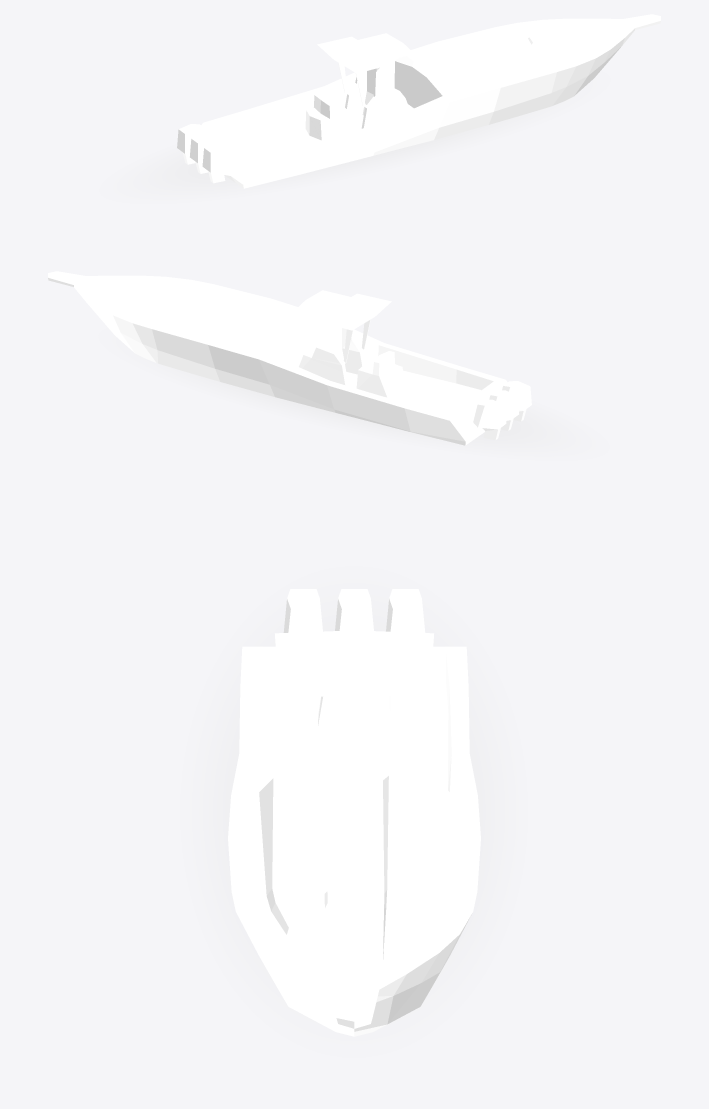
Rendered from AIS-BOAT_CenterConsole_B_001.glb.
3 views of the same model, one above another, from view 1: azimuth 30°, elevation 25°; view 2: azimuth 150°, elevation 25°; view 3: azimuth 270°, elevation 25° (orthographic). The views are drawn at different scales.
Visible parts, largest first — view 1: AIS_CenterConsole-B.002, SurfaceGraphic_whiteGlow.002; view 2: AIS_CenterConsole-B.002, SurfaceGraphic_whiteGlow.002; view 3: AIS_CenterConsole-B.002, SurfaceGraphic_whiteGlow.002.
Part boxes in pixels (x1=…): AIS_CenterConsole-B.002: x1=177, y1=14, x2=660, y2=188; SurfaceGraphic_whiteGlow.002: x1=140, y1=107, x2=550, y2=192; AIS_CenterConsole-B.002: x1=48, y1=271, x2=531, y2=445; SurfaceGraphic_whiteGlow.002: x1=160, y1=365, x2=568, y2=449; AIS_CenterConsole-B.002: x1=228, y1=589, x2=480, y2=1036; SurfaceGraphic_whiteGlow.002: x1=208, y1=607, x2=499, y2=984.
Bounding box in the file's own units: 18.71 × 2.53 × 5.45.
2 materials, 1 textured.
